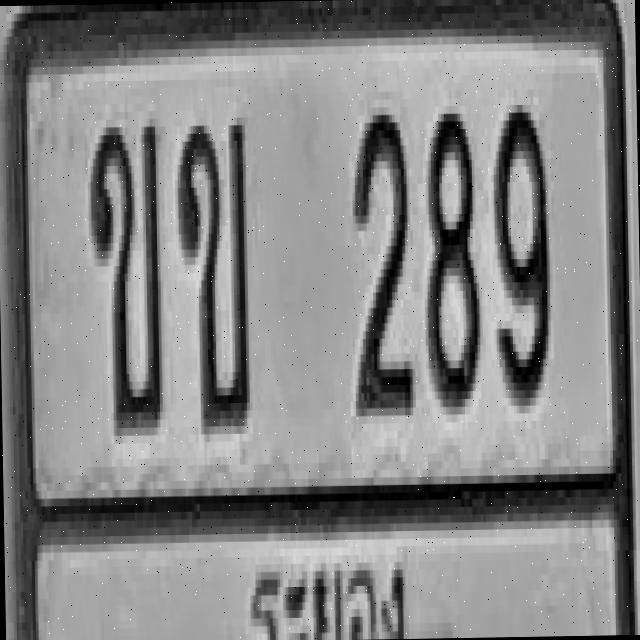11KhorKhai: (88, 119, 164, 428), (177, 117, 250, 427)
2: (350, 107, 412, 408)
8: (422, 106, 480, 407)
9: (492, 100, 552, 402)
Rayong: (244, 540, 407, 640)
